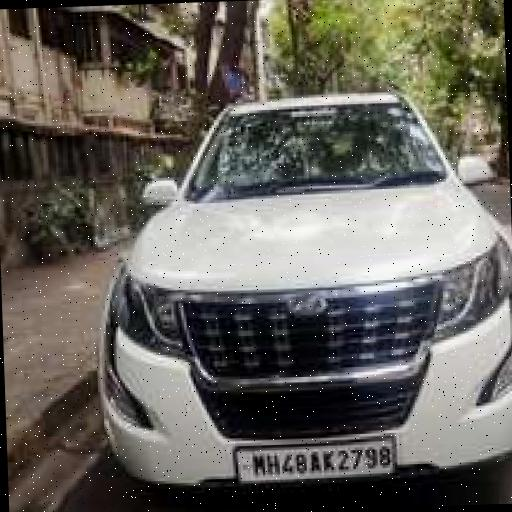license_plate`: (232, 435, 390, 478)
